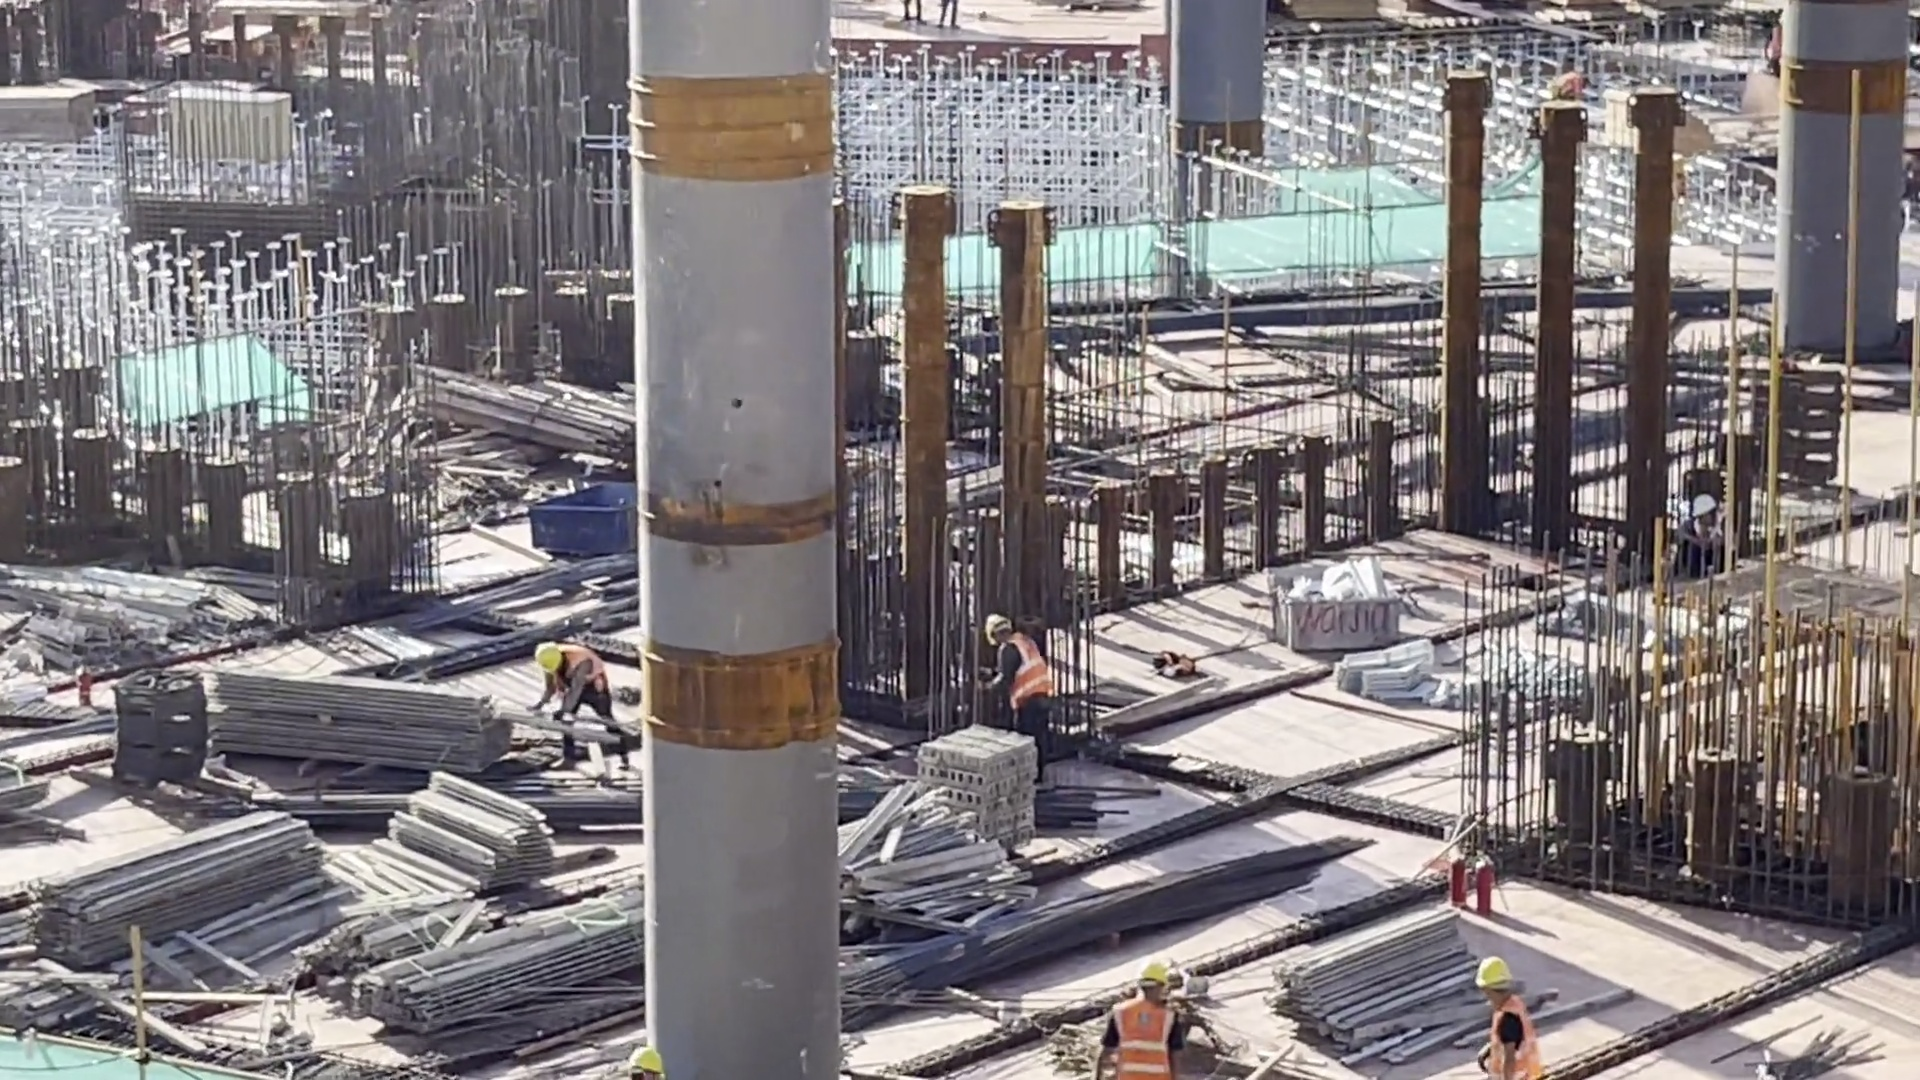board: (1, 70, 86, 162), (1271, 1, 1350, 32)
helmet: (1471, 956, 1504, 995), (985, 610, 1021, 643), (1690, 496, 1720, 529), (1149, 956, 1173, 993), (631, 1044, 659, 1066), (540, 638, 559, 666)
hopper: (508, 469, 658, 574), (1271, 557, 1398, 646)
person: (519, 626, 628, 753), (1464, 955, 1549, 1080), (996, 585, 1056, 738), (1671, 481, 1739, 586), (1118, 960, 1169, 1080), (1764, 10, 1799, 115), (1534, 55, 1591, 93), (619, 1050, 645, 1080), (947, 1, 969, 30), (911, 1, 928, 18)
rebar: (231, 762, 624, 835), (389, 546, 656, 638), (1123, 830, 1353, 909), (878, 932, 1059, 987)
vest: (1103, 979, 1183, 1077), (564, 642, 614, 712), (1003, 641, 1044, 722), (1488, 1016, 1535, 1080), (1684, 521, 1728, 561), (1558, 68, 1584, 93), (1766, 29, 1783, 67)
wood: (456, 362, 649, 447), (191, 72, 283, 166)
